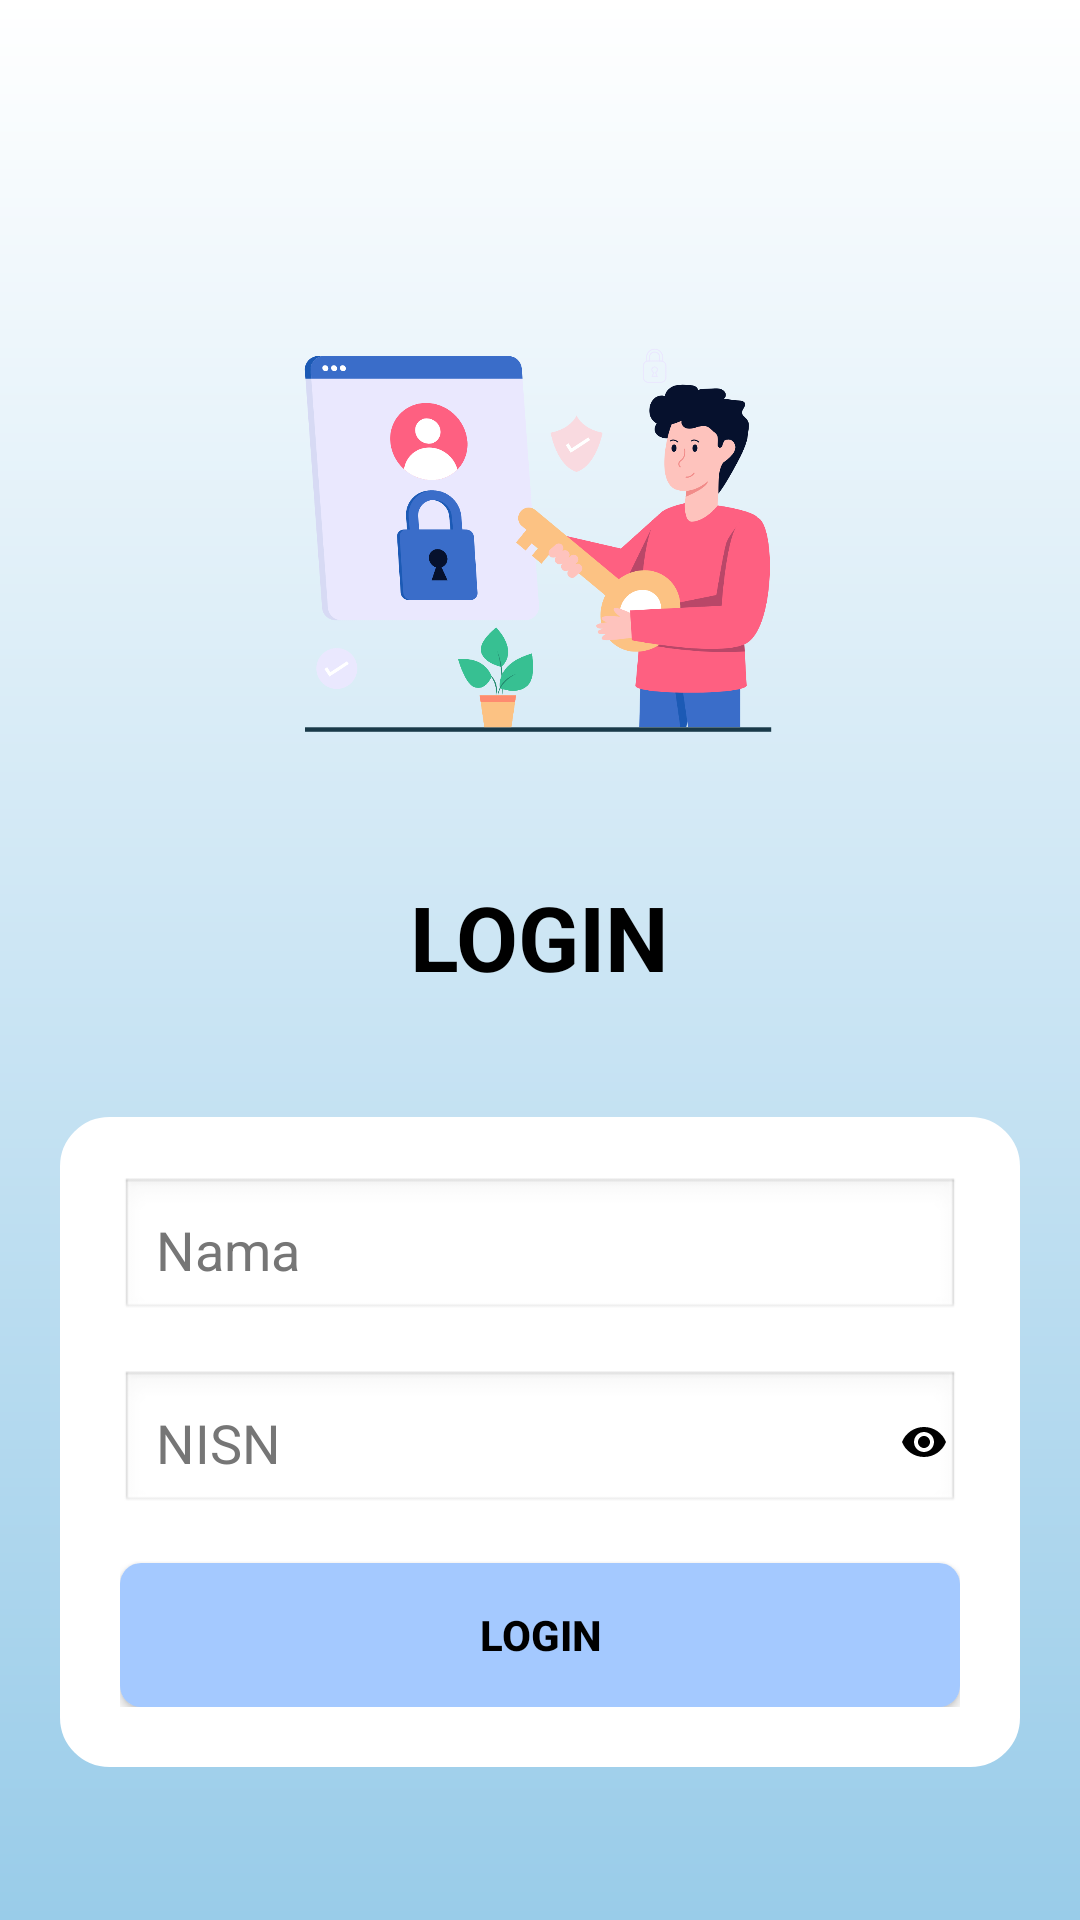

Named icons in this screenshot (1080 × 1920) and their centers, (x=x, y=y):
Toggle Visibility: (x=924, y=1442)
